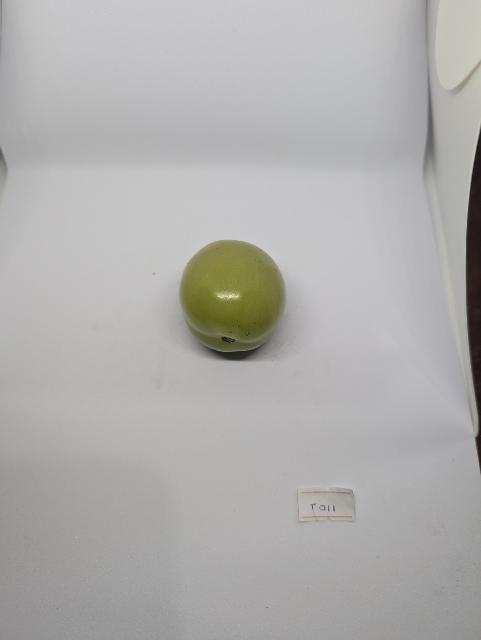green: (178, 240, 290, 357)
